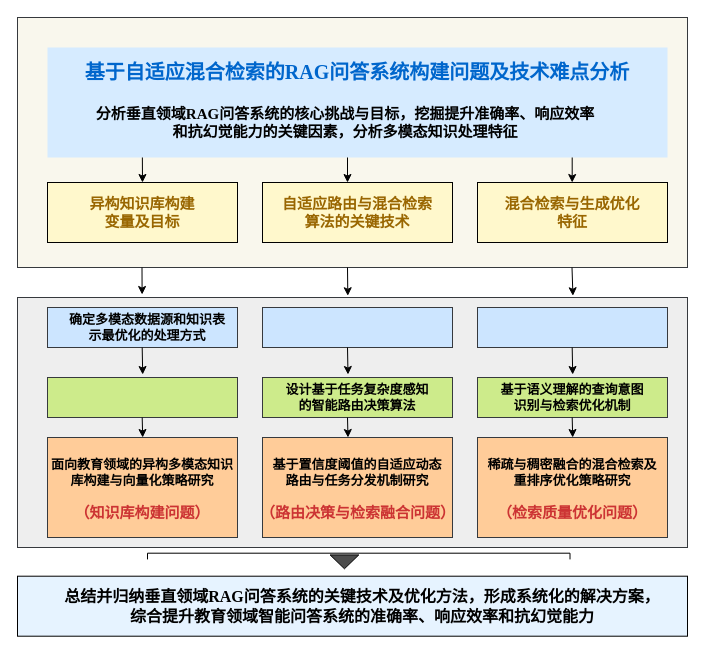
Some shapes in this 705 by 654 pixel diagram are drawn without their labels. Here are the shapes that lost their labels. From the top down, the centre of each, then its label:
At pixel 357 327: "建立基于置信度阈值的自适应动态路由与任务分发机制".
At pixel 572 327: "稀疏与稠密融合的混合检索及重排序优化策略".
At pixel 142 397: "设计异构多模态知识库的向量化表示与索引策略".
